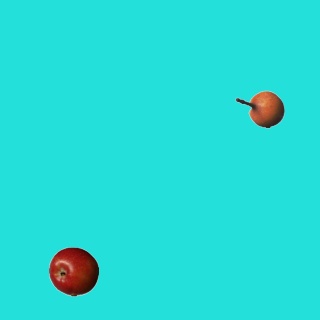Apple Braeburn: (48, 246, 98, 296)
Granadilla: (234, 84, 284, 134)
